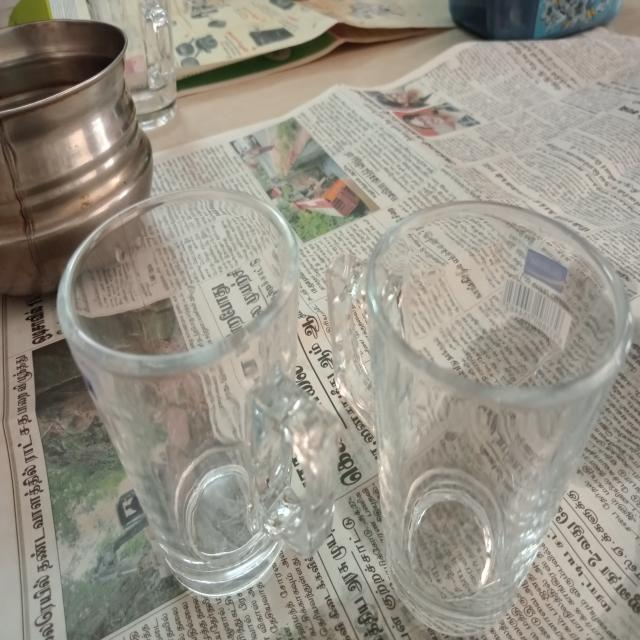glass-VX4N: (323, 194, 632, 637), (54, 187, 342, 606)
